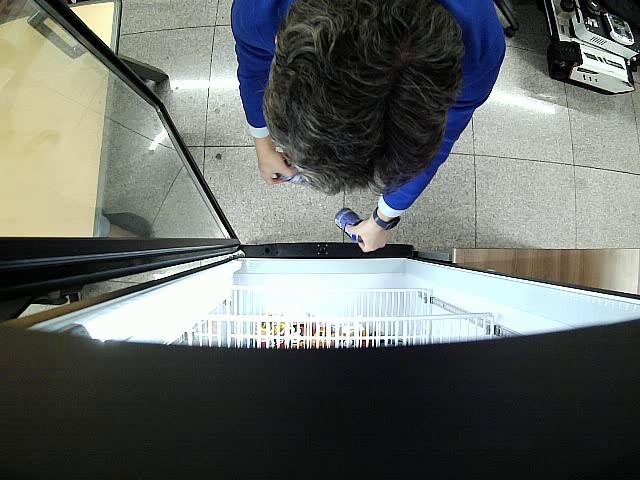00_hand: (256, 140, 298, 186), (345, 220, 387, 253)
14_welchsGrape: (334, 207, 362, 242)
